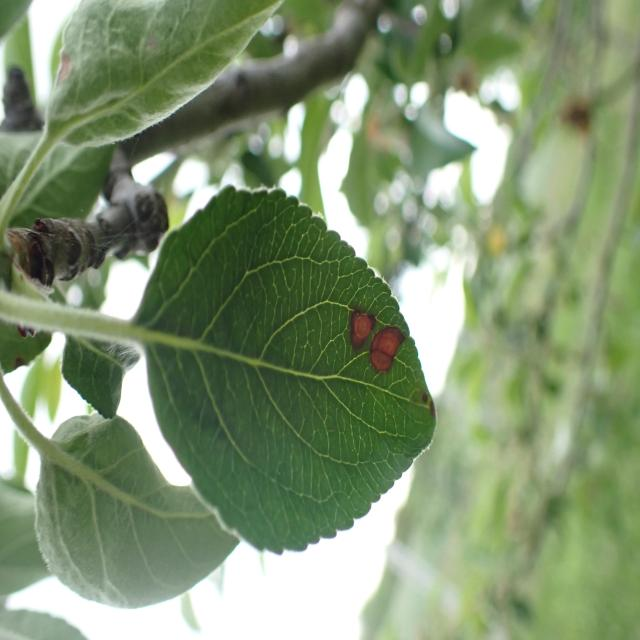Black Rot: (334, 289, 423, 387)
